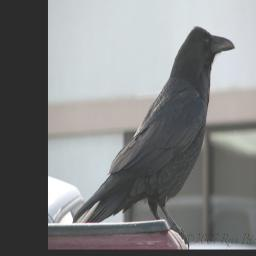Crow: (71, 25, 236, 246)
